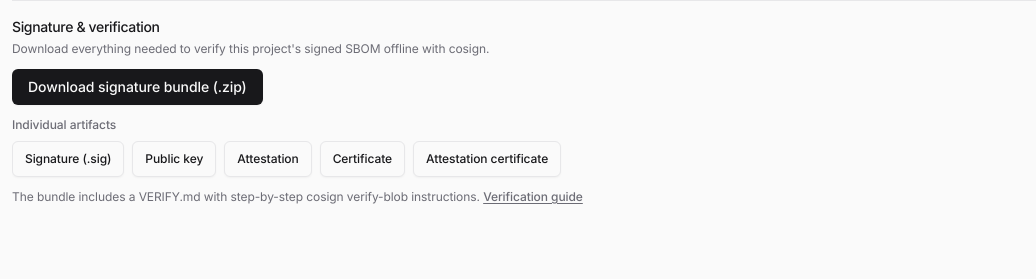
SbomSignatureSection › surfaces an inline error alert for a non-404 failure
Click the button with test id "sbom-signature-download-bundle".
click(137, 87)  # box [12,69,263,105]
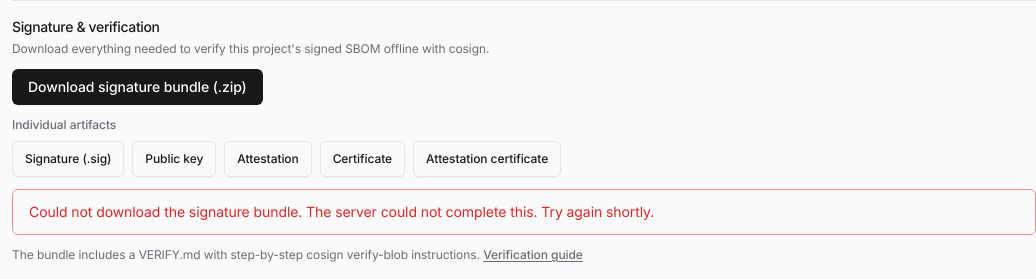
Result: the message with test id "sbom-signature-error" shows "Could not download the signature bundle. The server could not complete this." at [29,203,654,220]
